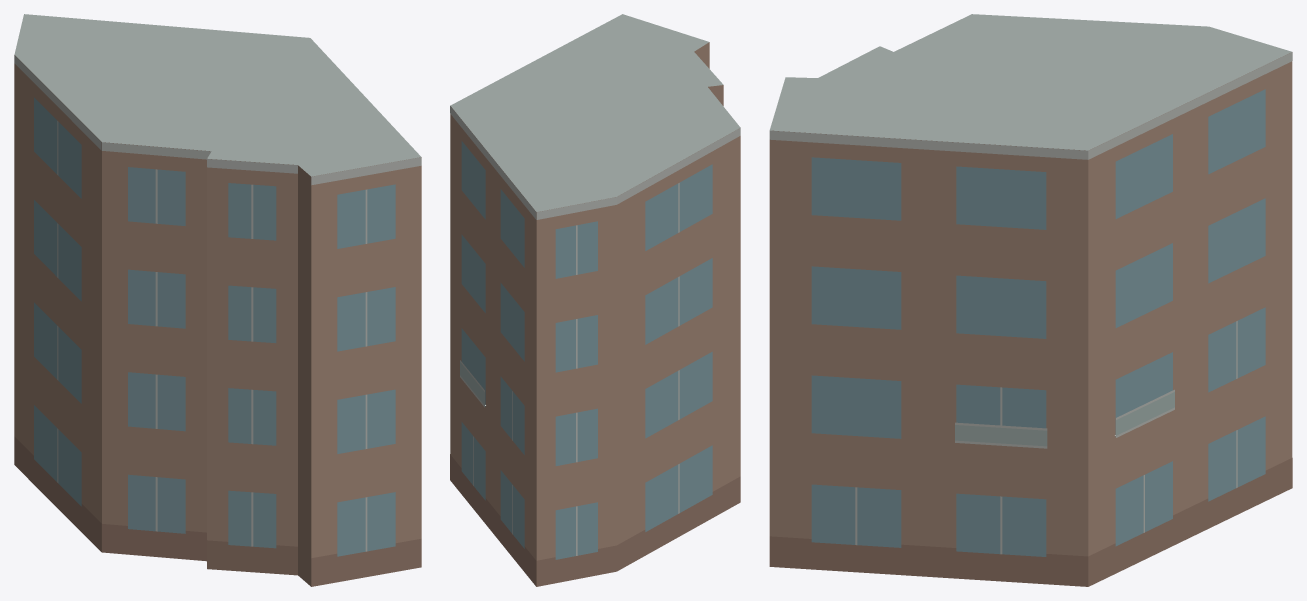
File: survey-upis-32767695.glb
The picture shows the model from 3 angles, left to right: view 1: azimuth 30°, elevation 25°; view 2: azimuth 150°, elevation 25°; view 3: azimuth 270°, elevation 25°; orthographic projection. The views are drawn at different scales.
Parts seen in each view (by area): view 1: survey-upis-32767695.tmp; view 2: survey-upis-32767695.tmp; view 3: survey-upis-32767695.tmp.
Boxes of the visible parts, box(x1,y1,x2,y2) form: survey-upis-32767695.tmp: box(14, 14, 421, 586); survey-upis-32767695.tmp: box(450, 14, 740, 586); survey-upis-32767695.tmp: box(769, 14, 1292, 586).
Bounding box in the file's own units: 7.73 × 11.5 × 12.5.
